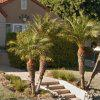Palm tree: (9, 14, 92, 97)
